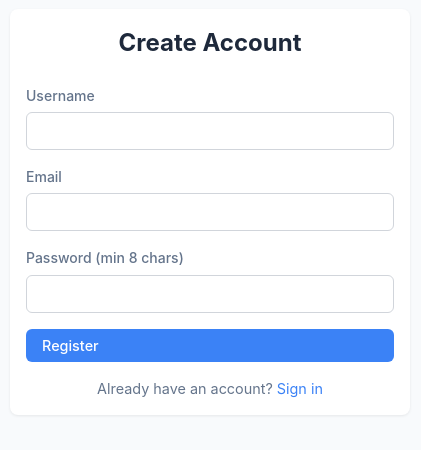
RegisterView › shows generic fallback message when no server message available
In the field with id "username": (210, 131) 26,112 -> 394,150, type "alice"
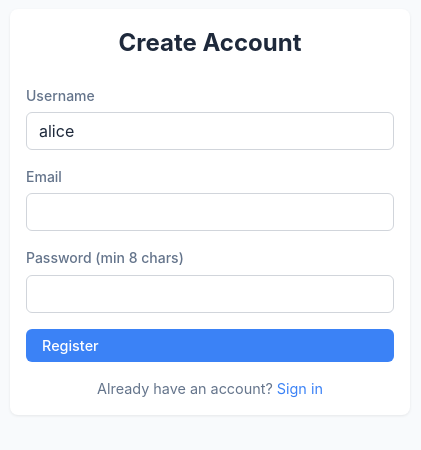
In the field with id "email": (210, 212) 26,193 -> 394,231, type "a@b.com"
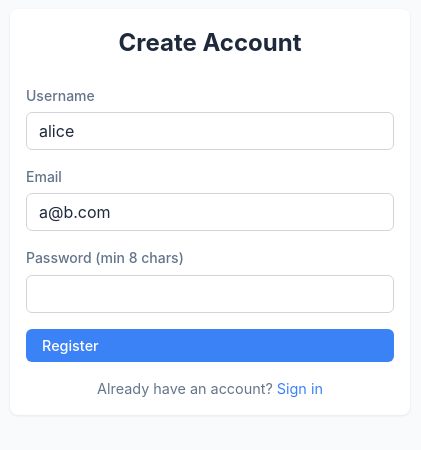
In the password field labelled "Password (min 8 chars)": (210, 294) 26,275 -> 394,313, type "pass1234"
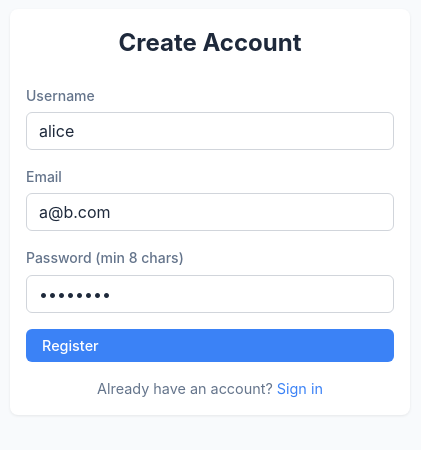
Submit the form, box 26,85 -> 394,362
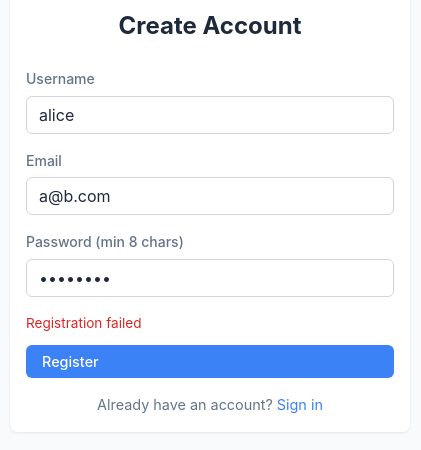
expect the text "Registration failed" is shown: met, box 26,315 -> 142,331
